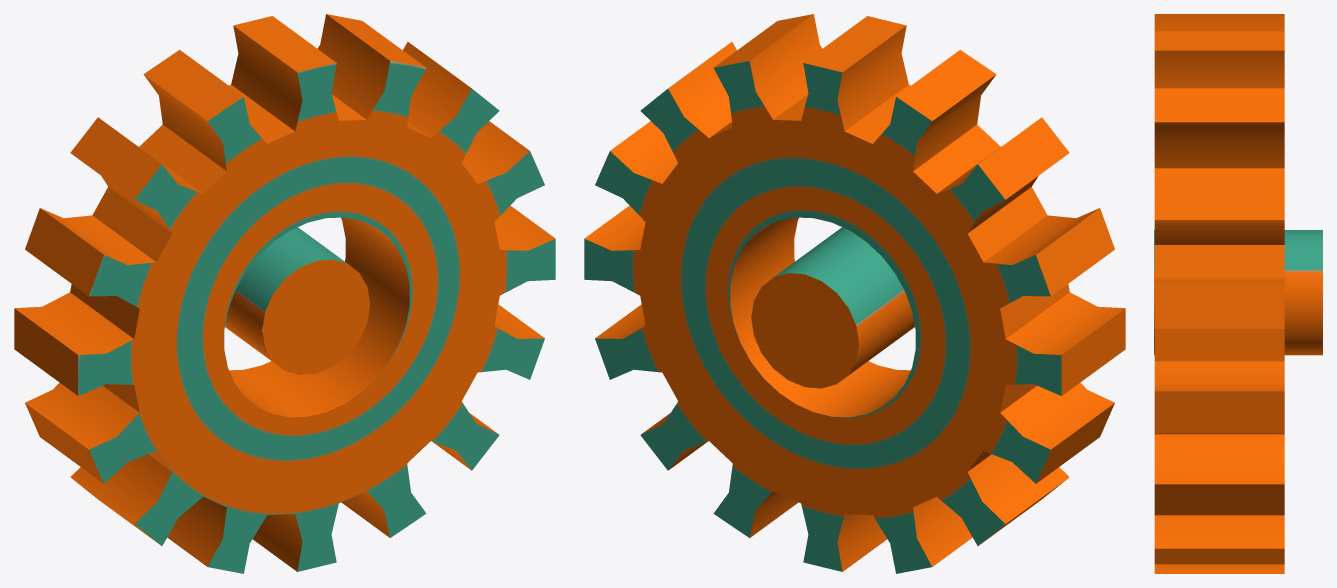
The model's file is UV_gearBig2.fbx.
3 renders of one model, left to right at view 1: azimuth 30°, elevation 25°; view 2: azimuth 150°, elevation 25°; view 3: azimuth 270°, elevation 25°, orthographic.
Visible parts, largest first — view 1: gearBig2; view 2: gearBig2; view 3: gearBig2.
Part boxes in pixels (x1,y1,x2,y2): gearBig2: (14,14,555,573); gearBig2: (584,14,1125,573); gearBig2: (1154,14,1322,573).
Bounding box in the file's own units: 11.13 × 11.13 × 3.37.
1 material, 1 textured.
